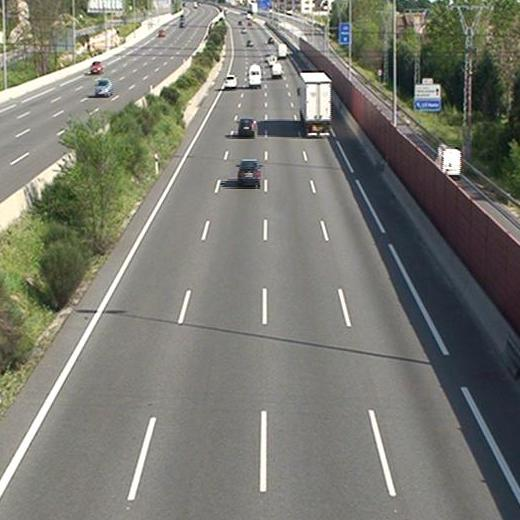car: (237, 161, 261, 185), (237, 118, 255, 138), (224, 76, 237, 88)
truck: (298, 73, 332, 137)
van: (248, 65, 261, 87), (271, 63, 282, 78), (278, 43, 287, 59)
